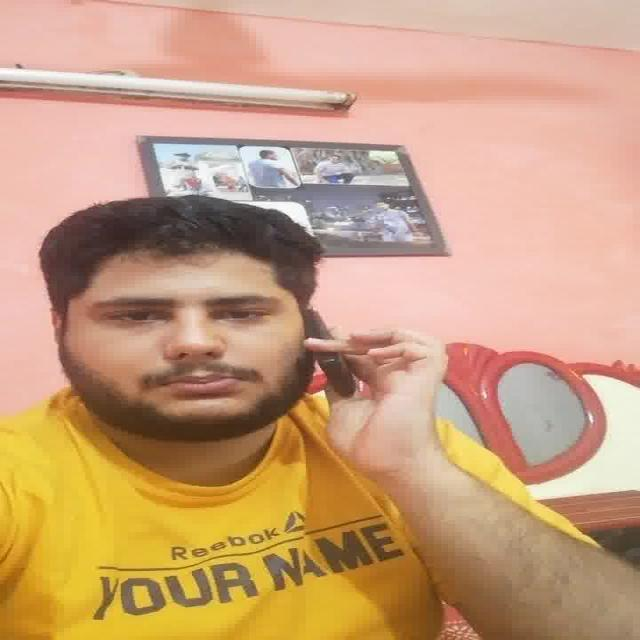Phone: (302, 302, 359, 403)
